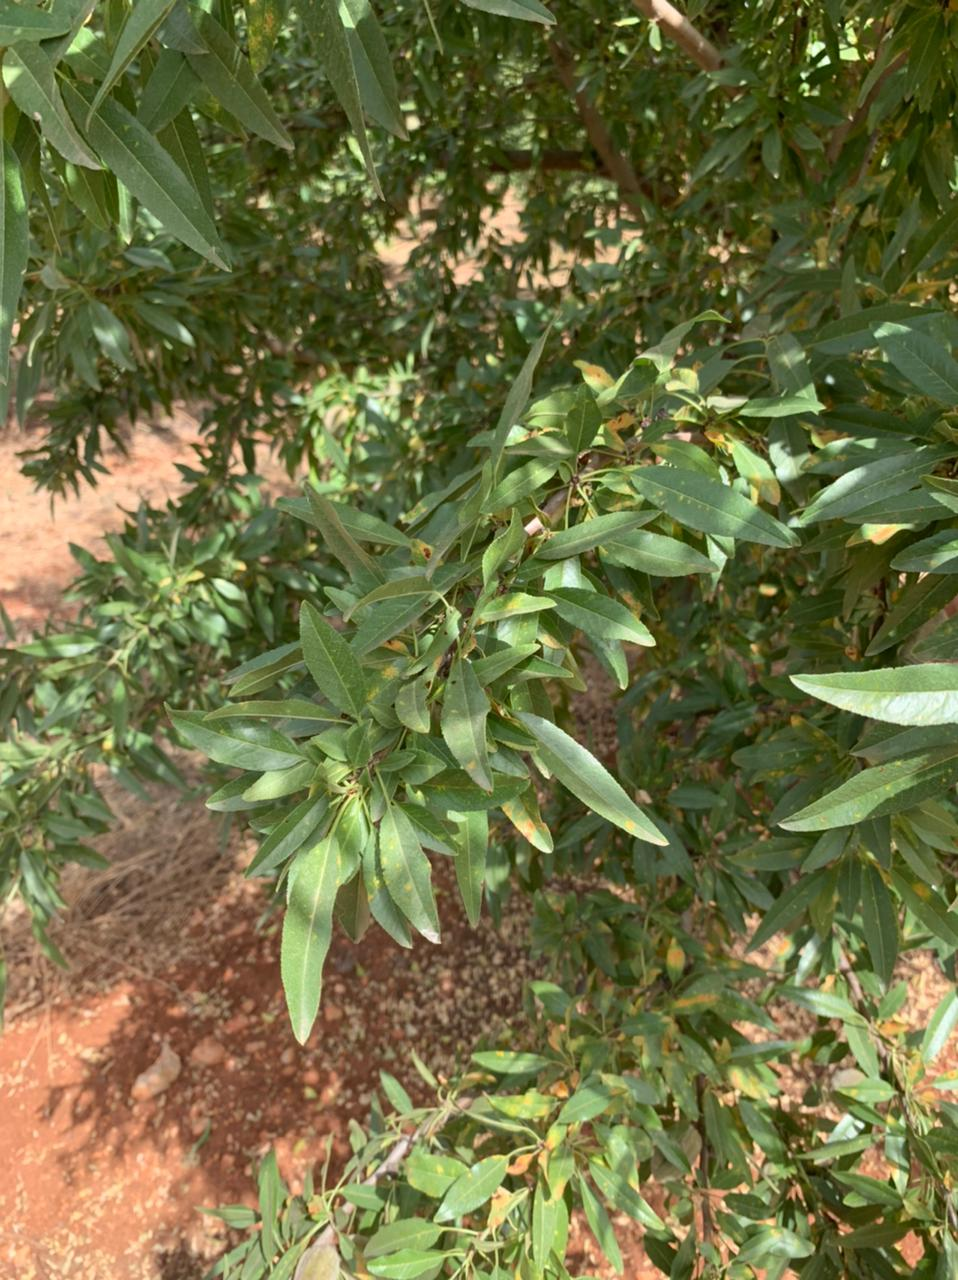polystigma: (781, 748, 957, 835), (627, 463, 797, 548), (280, 836, 344, 1047), (377, 806, 452, 946), (434, 1154, 509, 1224), (483, 1089, 560, 1122)
